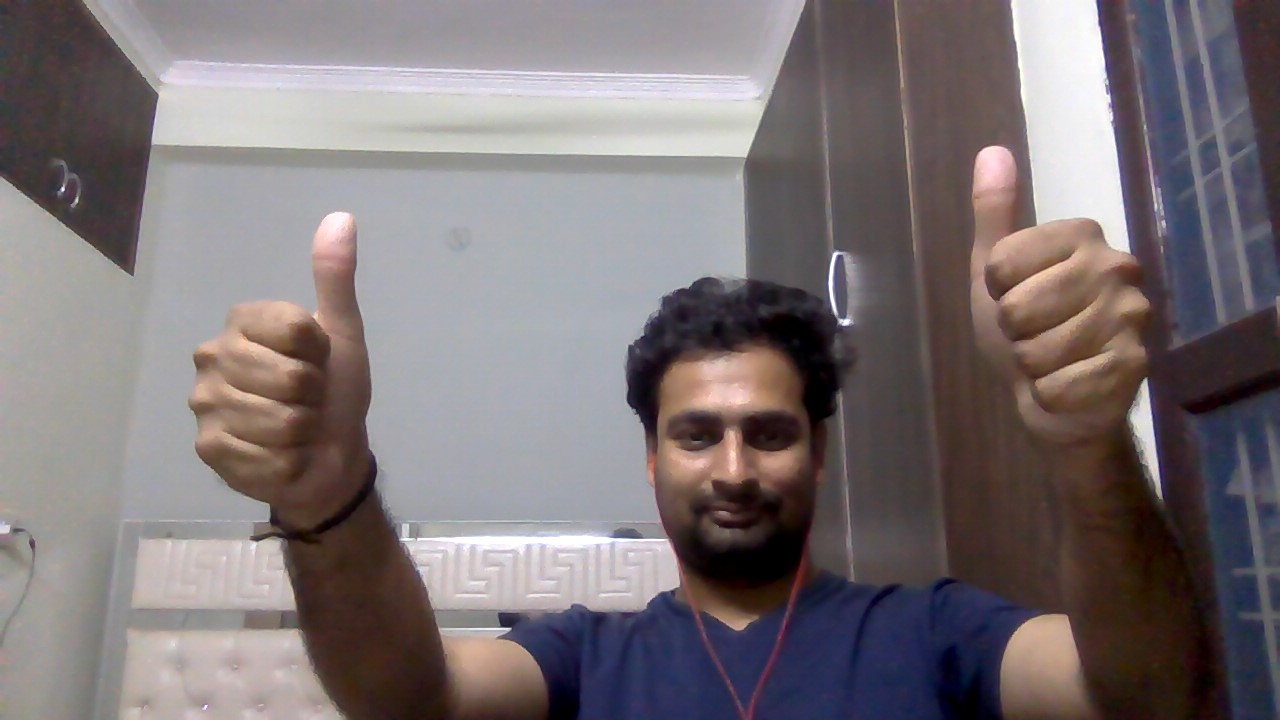Save: (940, 139, 1178, 462), (175, 197, 398, 519)
